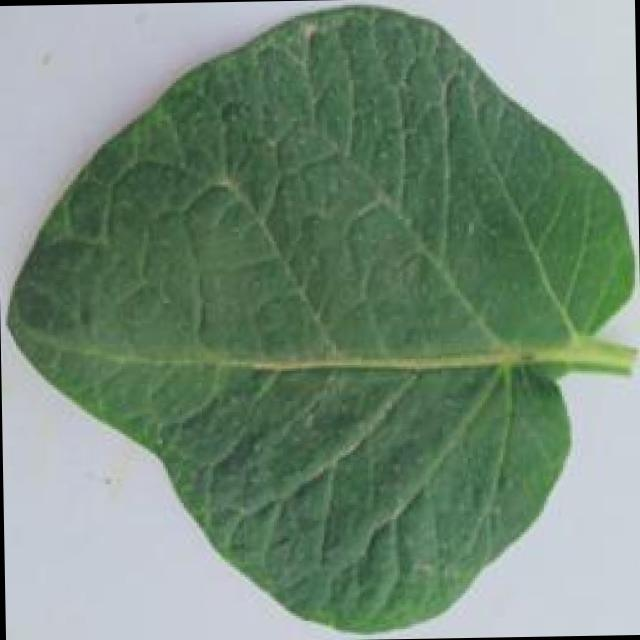Potato_Healthy: (0, 0, 633, 627)
